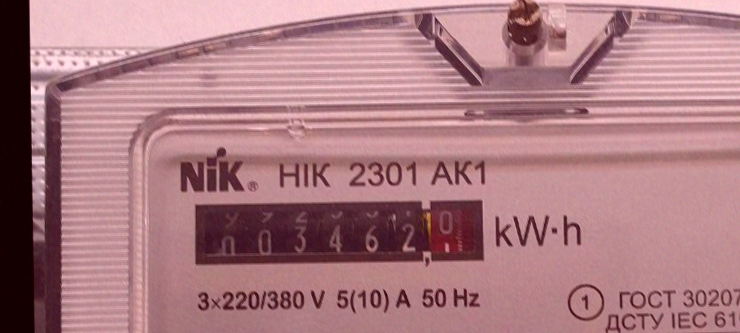0: (256, 225, 274, 254), (438, 207, 455, 235), (218, 232, 237, 255)
2: (400, 220, 418, 252)
3: (291, 222, 309, 255)
4: (328, 221, 345, 253)
6: (362, 220, 382, 255)
9: (221, 209, 241, 229)
screen: (183, 187, 496, 282)
